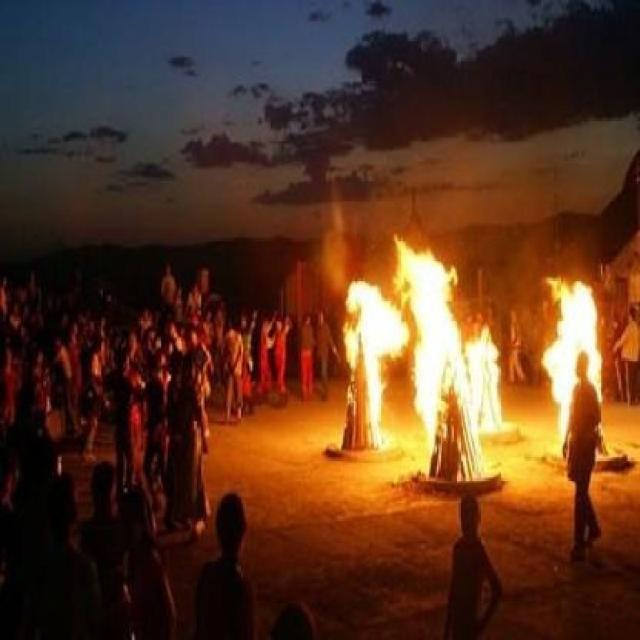Fire: (338, 235, 515, 450), (543, 275, 604, 435)
